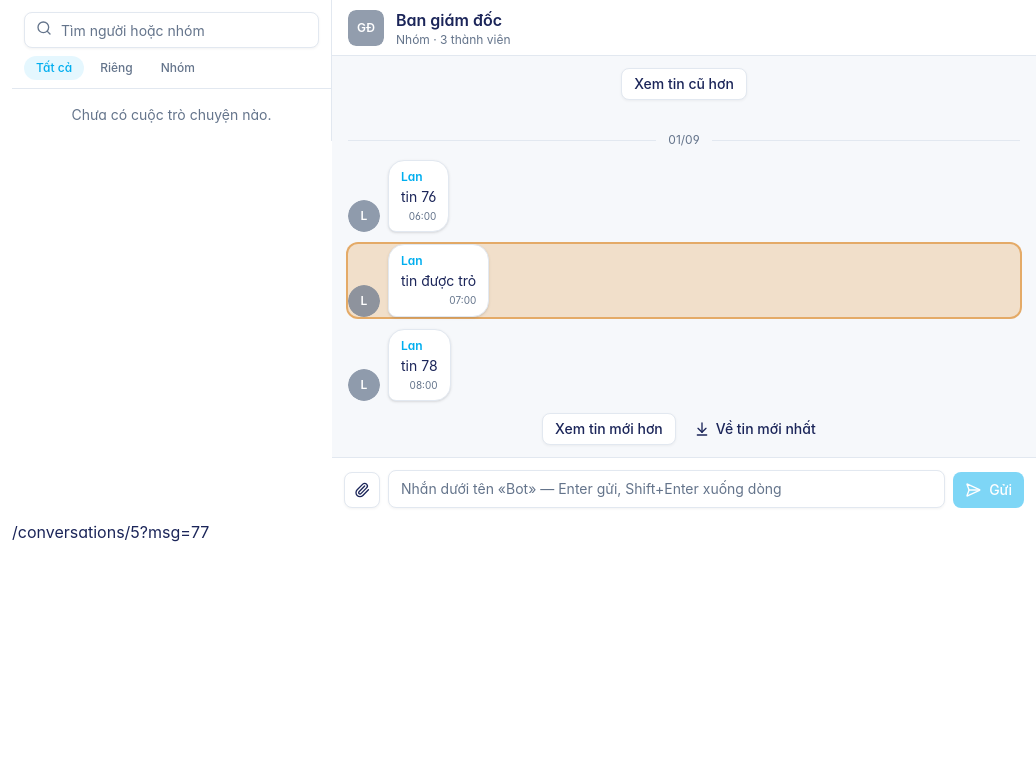
ConversationPage ?msg= › loads the page around the linked message, highlights it, and pages newer / older by message id
Click the button "Xem tin mới hơn".
click(609, 429)  # box [542,413,676,445]
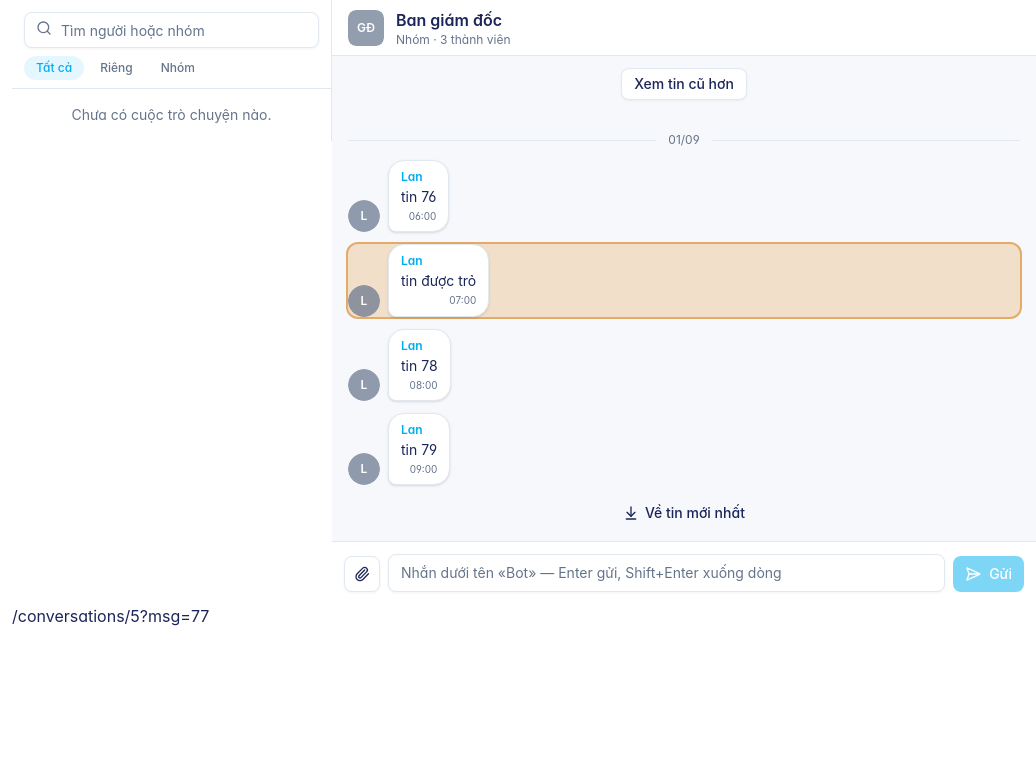
expect the text "tin 79" is shown: met, box [401,440,437,460]
expect the button "Xem tin mới hơn" is gone: met
Click the button "Xem tin cũ hơn".
click(684, 84)  # box [621,68,747,100]
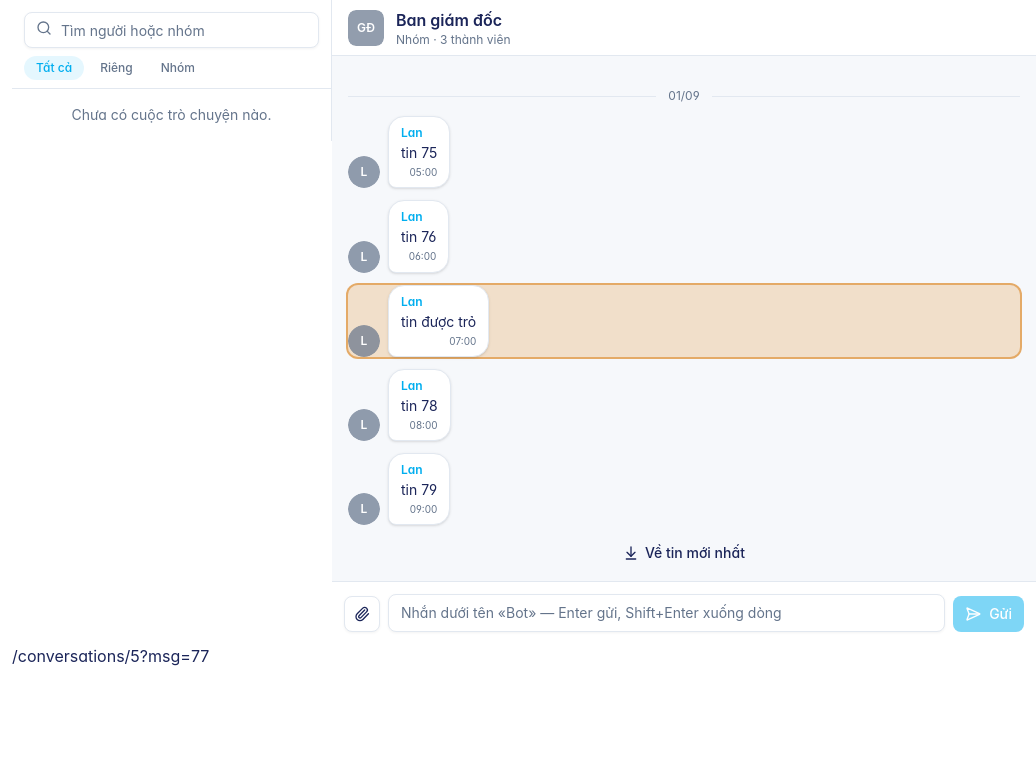
expect the text "tin 75" is shown: met, box [401,143,437,163]
